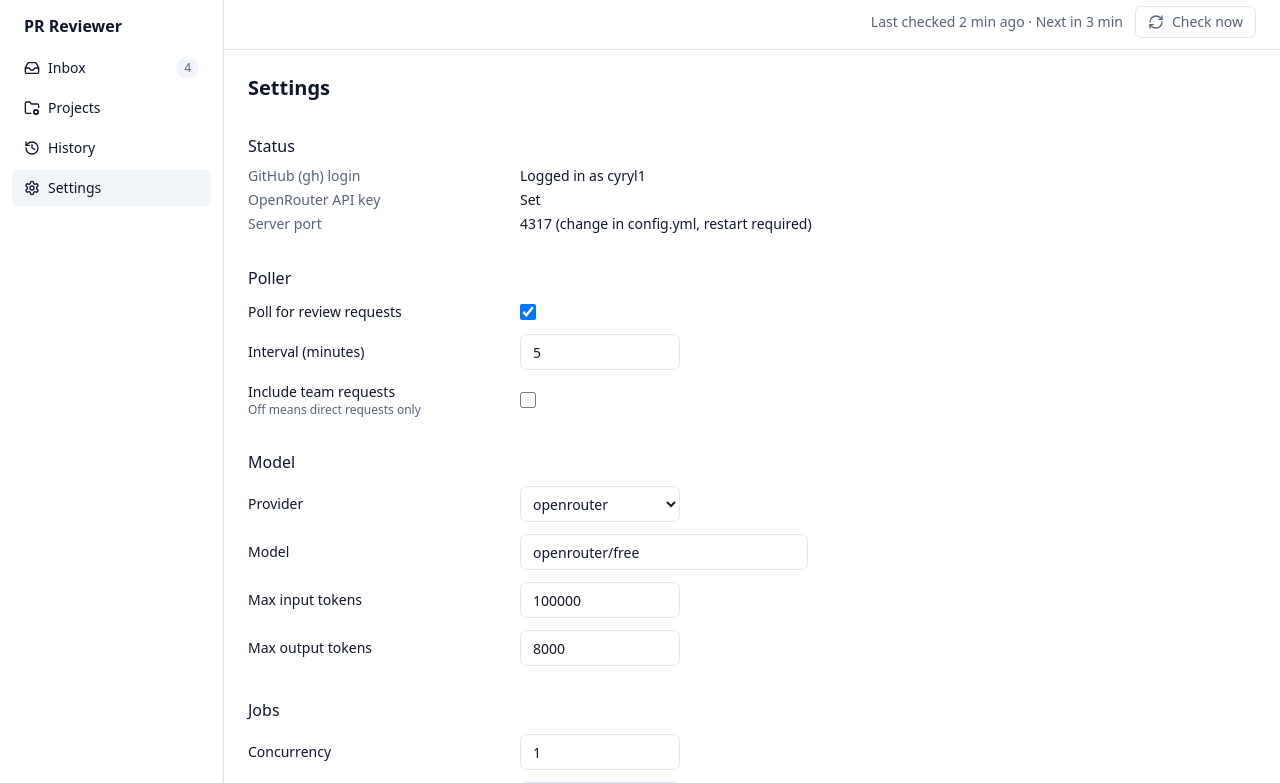
Test: Settings › saves changes through PUT /settings
This screenshot has width=1280, height=783.
Replace the text in the number field labelled "Interval (minutes)" with "10" at (600, 352), box [520,334,680,370]
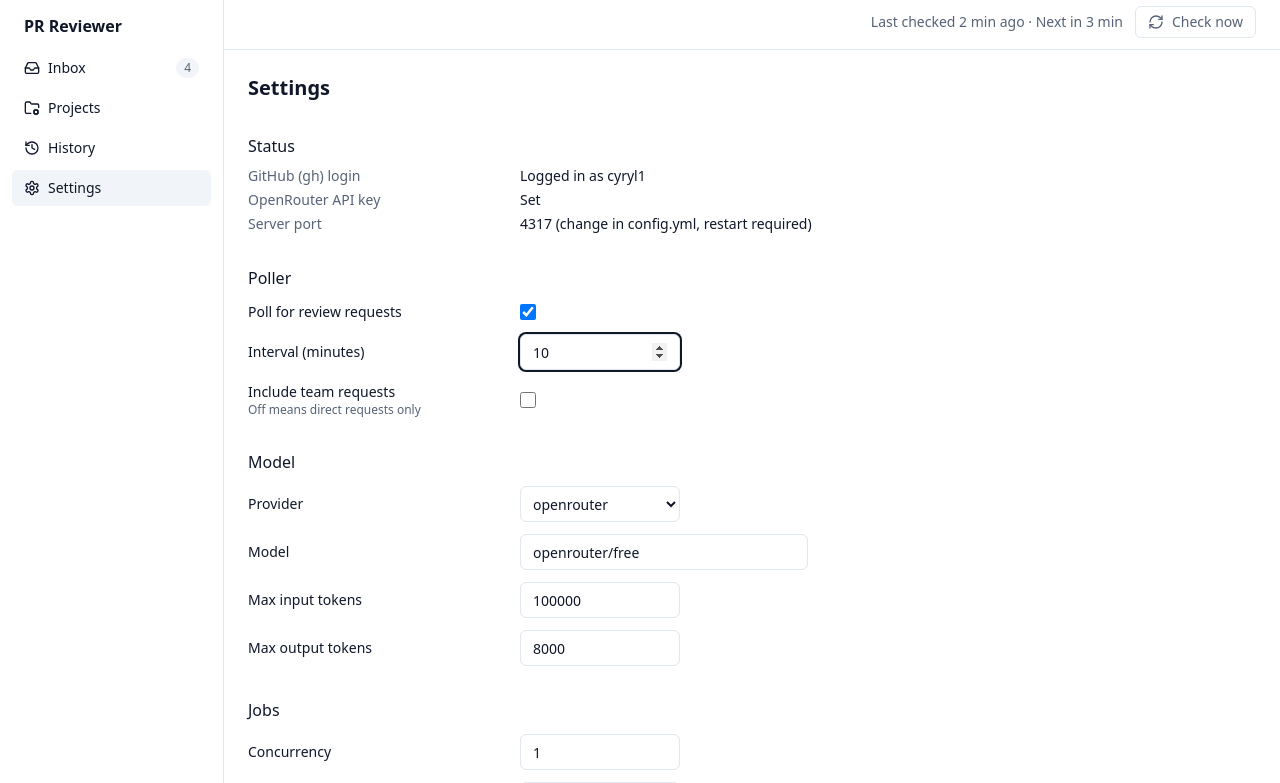
Select "mock" in the dropdown labelled "Provider" at (600, 504), box [520,486,680,522]
(page scrolled)
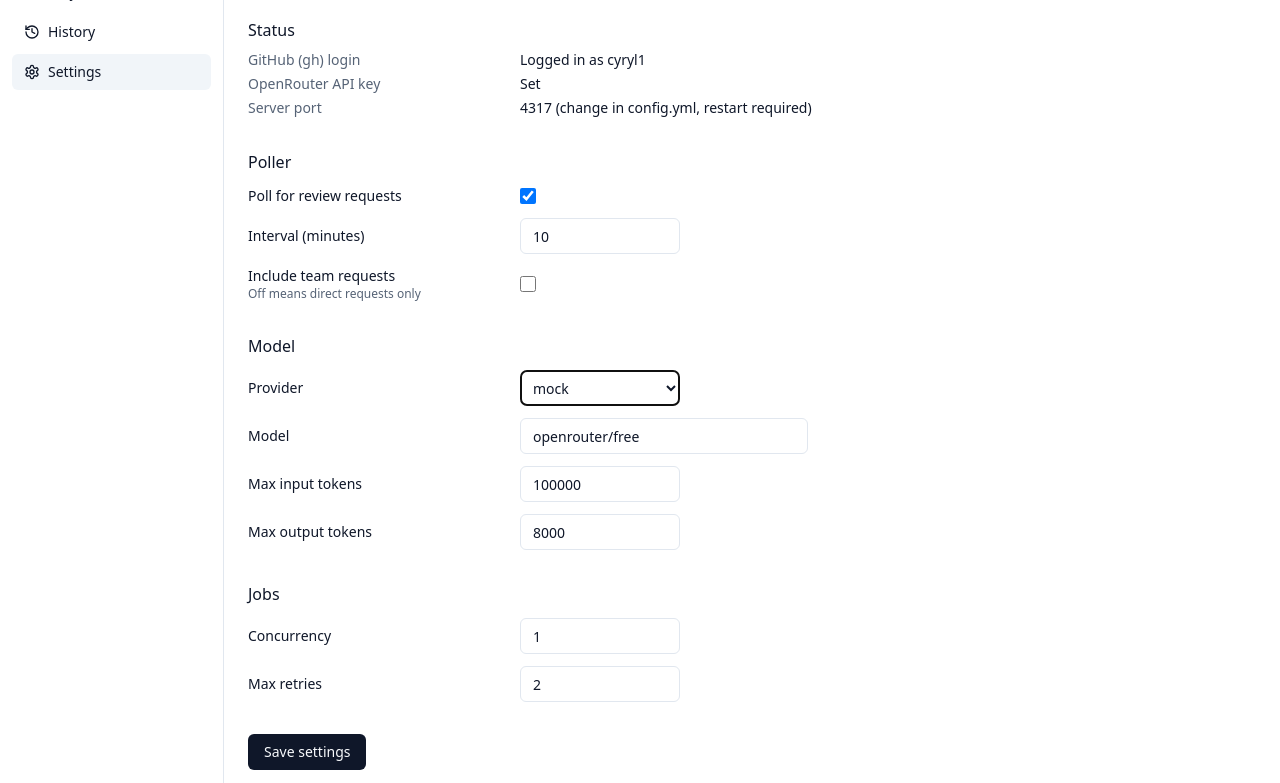
Click the button "Save settings" at (307, 752), box [248,734,366,770]
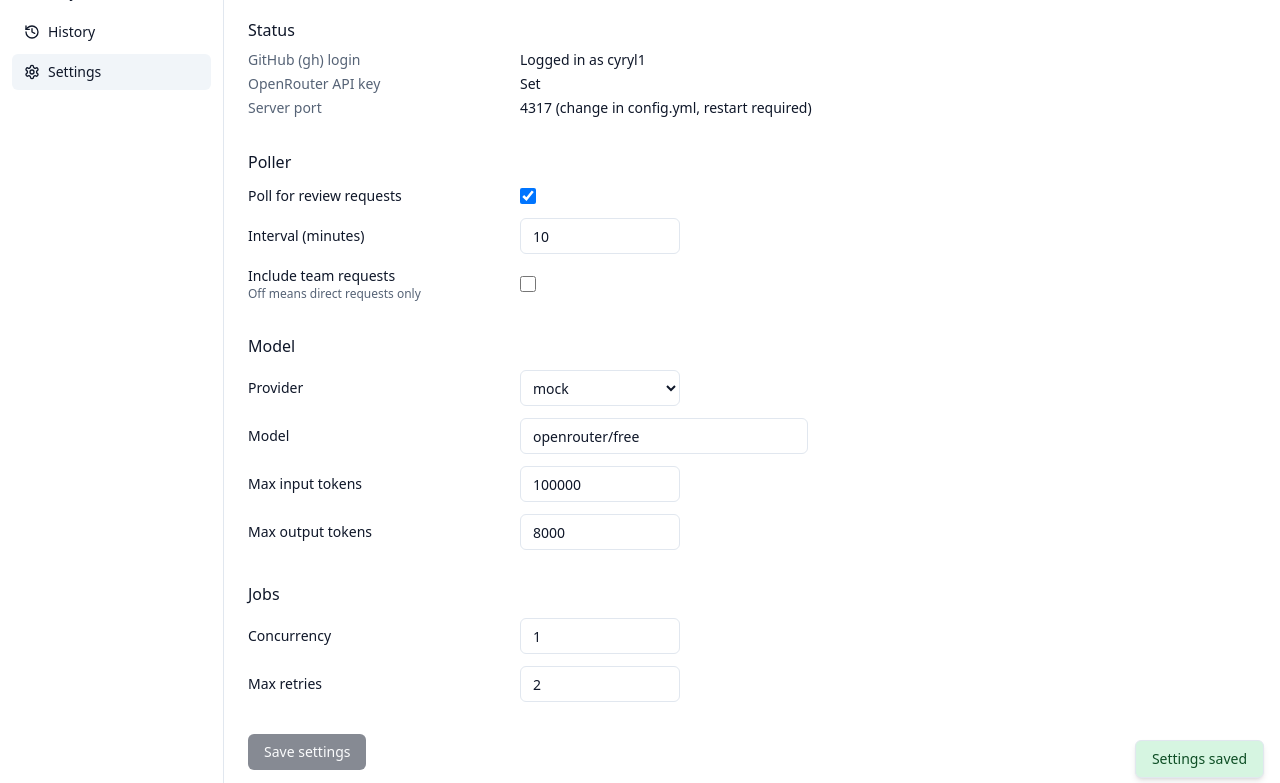
Expected: the text "Settings saved" is shown, [1135,740,1264,778]
Expected: the button "Save settings" is disabled, [248,734,366,770]
